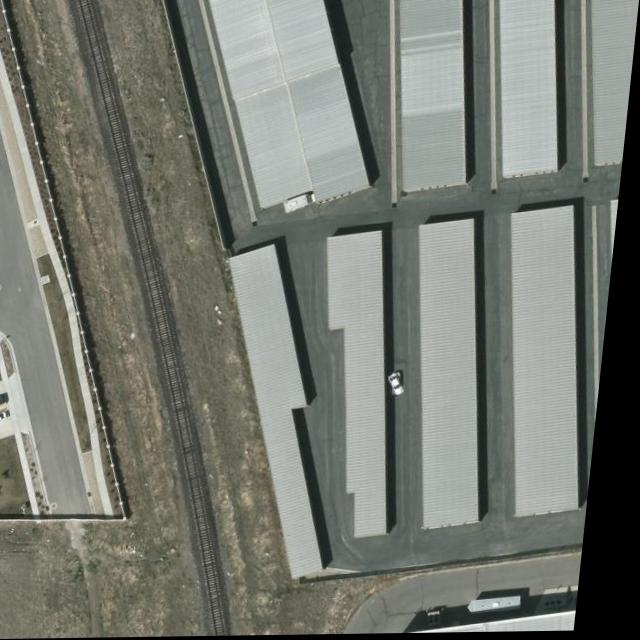vehicle: (395, 373, 413, 398), (0, 411, 20, 429), (0, 395, 16, 416)
